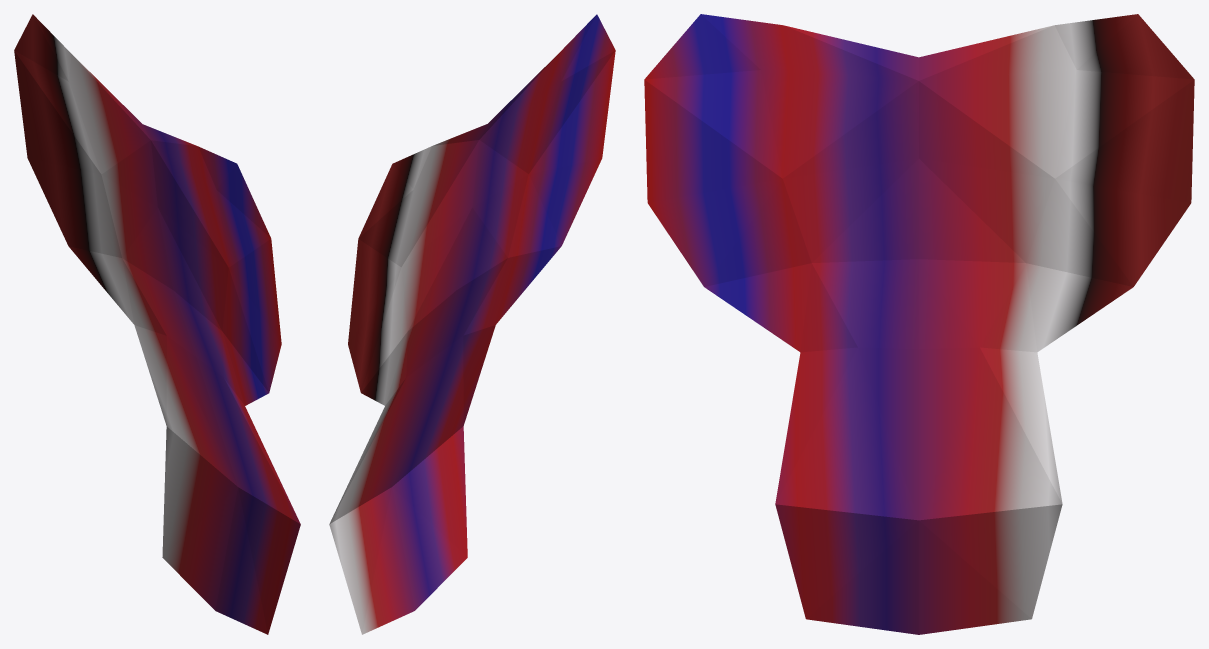
Rendered from GLOWY EYES ORANGE.fbx.
3 views of the same model, side by side, from view 1: azimuth 30°, elevation 25°; view 2: azimuth 150°, elevation 25°; view 3: azimuth 270°, elevation 25° (orthographic). The views are drawn at different scales.
Visible parts, largest first — view 1: GLOWY_EYES_ORANGE; view 2: GLOWY_EYES_ORANGE; view 3: GLOWY_EYES_ORANGE.
Part boxes in pixels (x1=…): GLOWY_EYES_ORANGE: x1=14, y1=14, x2=300, y2=634; GLOWY_EYES_ORANGE: x1=329, y1=14, x2=615, y2=634; GLOWY_EYES_ORANGE: x1=644, y1=14, x2=1194, y2=634.
Size of the model in its own units: 4.02 by 20.13 by 17.33.
